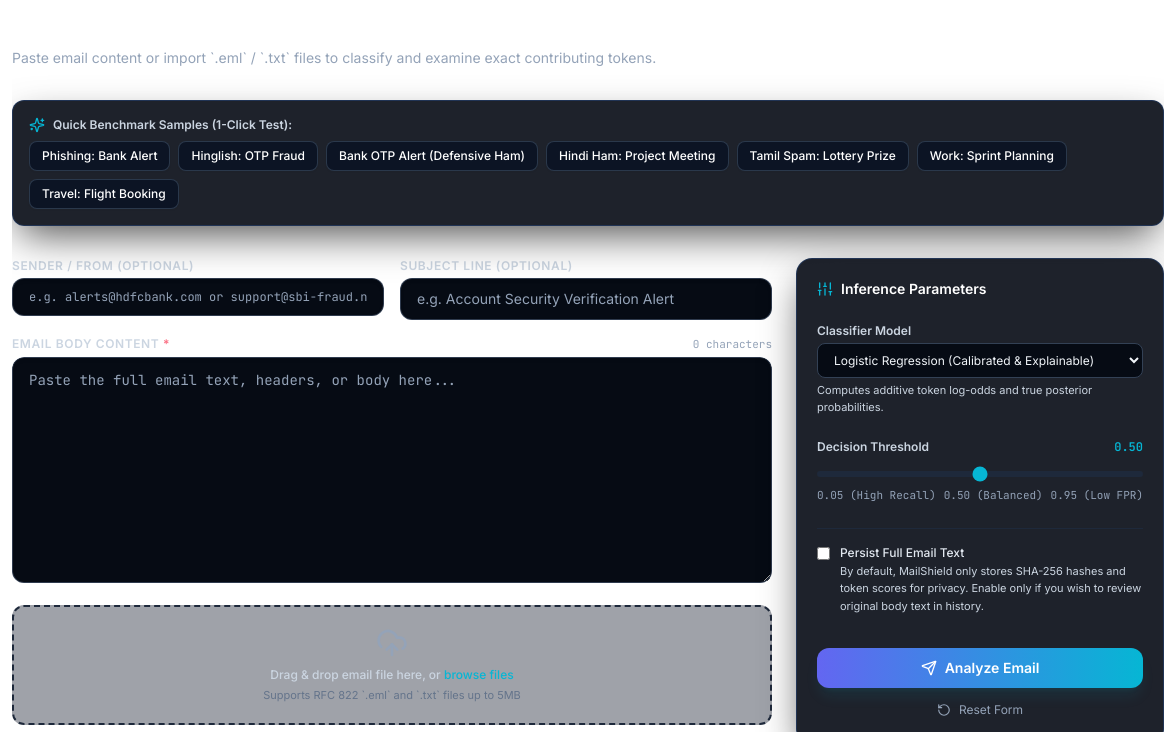
Test case: AnalyzerView Component › resets form when Reset Form is clicked
Type "To be cleared" into the field with placeholder "e.g. Account Security Verification Alert".
click(586, 299); type("To be cleared")  # box [400,278,772,320]
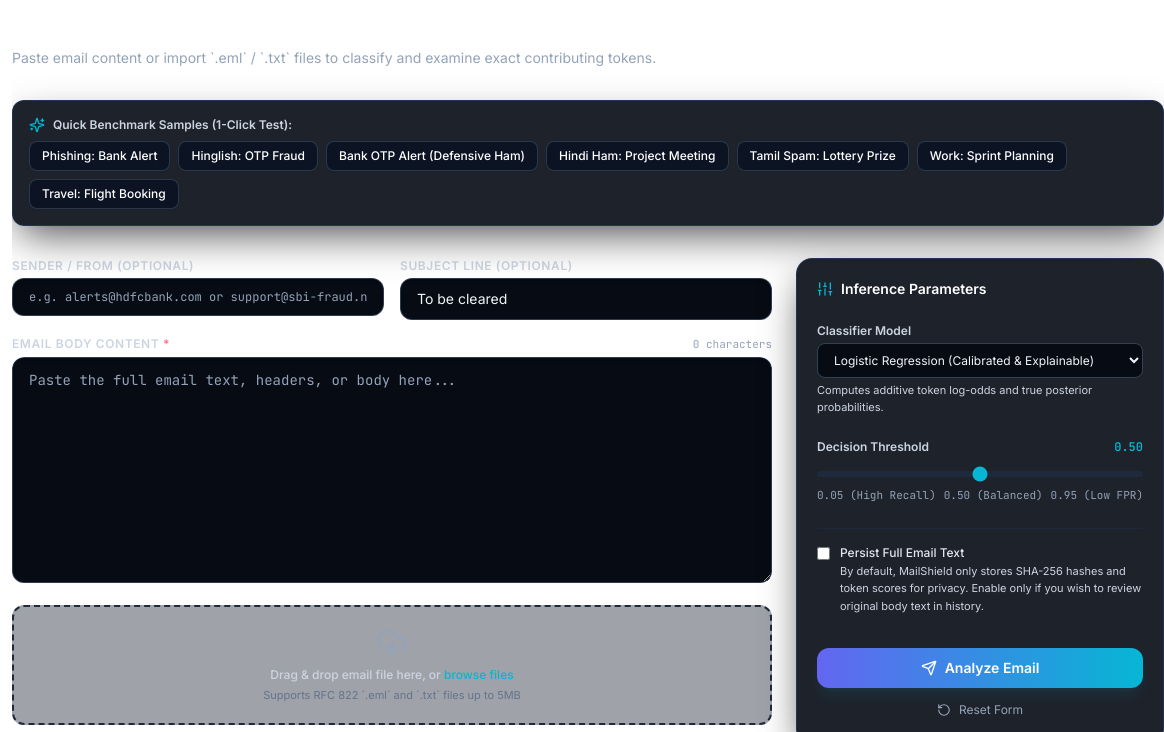
Click the button "Reset Form".
click(980, 710)  # box [817,696,1143,724]
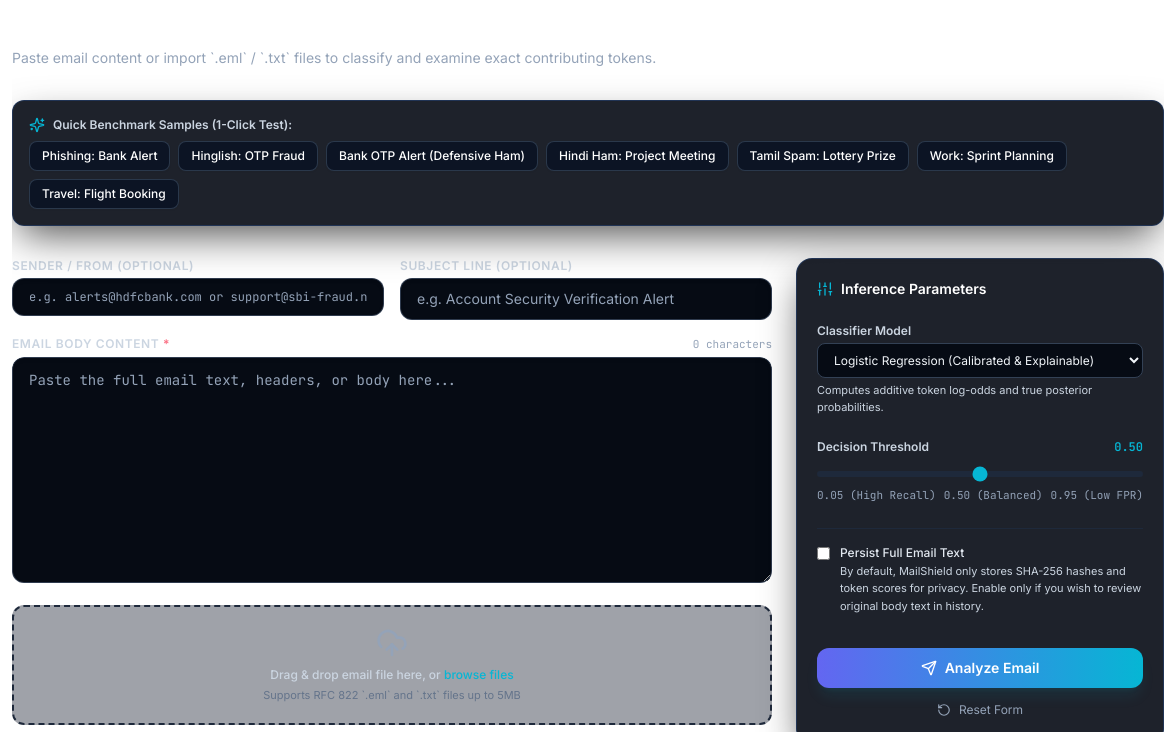
Check: the field with placeholder "e.g. Account Security Verification Alert" is empty, box [400,278,772,320]
